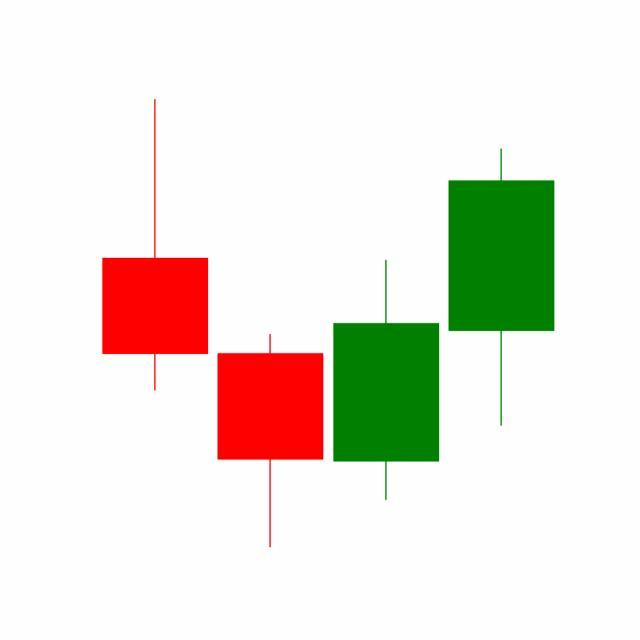Three Outside Up-Down: (211, 144, 555, 549)
